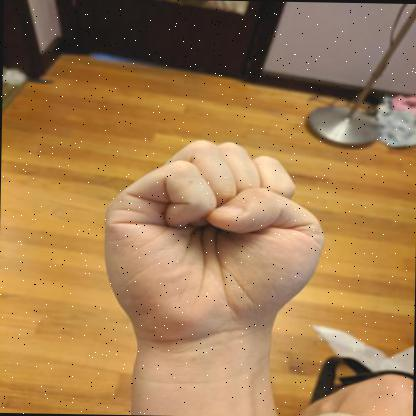E: (103, 139, 324, 349)
